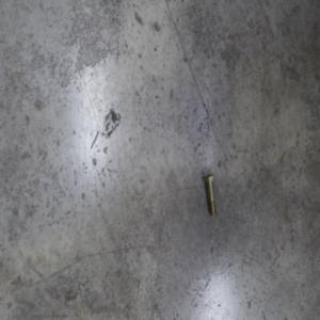Bolttrack_idkeyframe: (203, 171, 217, 215)
